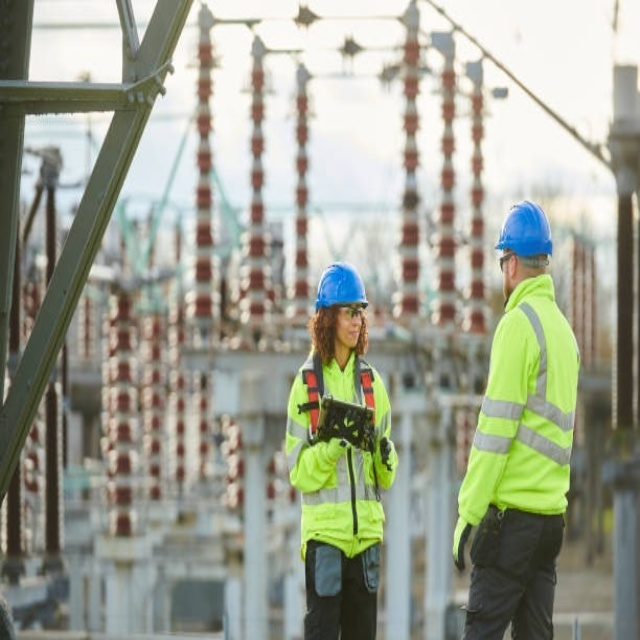Gafas: (337, 304, 366, 322), (498, 249, 513, 271)
Guantes: (449, 510, 473, 571), (379, 433, 397, 474)
Sin_mascara: (342, 327, 360, 347)
